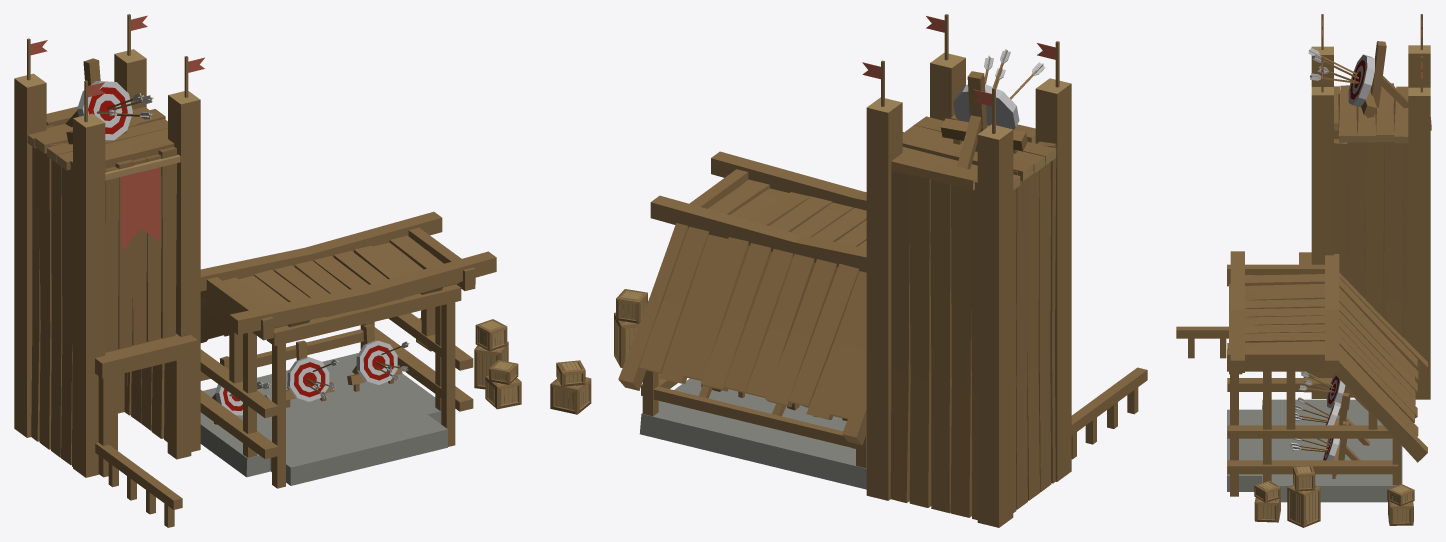
Rendered from Archery Training Grounds-5dWpau7C3k.glb.
3 renders of one model, left to right at view 1: azimuth 30°, elevation 25°; view 2: azimuth 150°, elevation 25°; view 3: azimuth 270°, elevation 25°, orthographic. The views are drawn at different scales.
Visible parts, largest first — view 1: Archery_FirstAge_Level2; view 2: Archery_FirstAge_Level2; view 3: Archery_FirstAge_Level2.
Boxes of the visible parts, x1,y1,x2,y2 form: Archery_FirstAge_Level2: (14,14,521,527); Archery_FirstAge_Level2: (550,14,1147,527); Archery_FirstAge_Level2: (1176,14,1431,527).
Size of the model in its own units: 1.65 by 1.5 by 0.9999.
